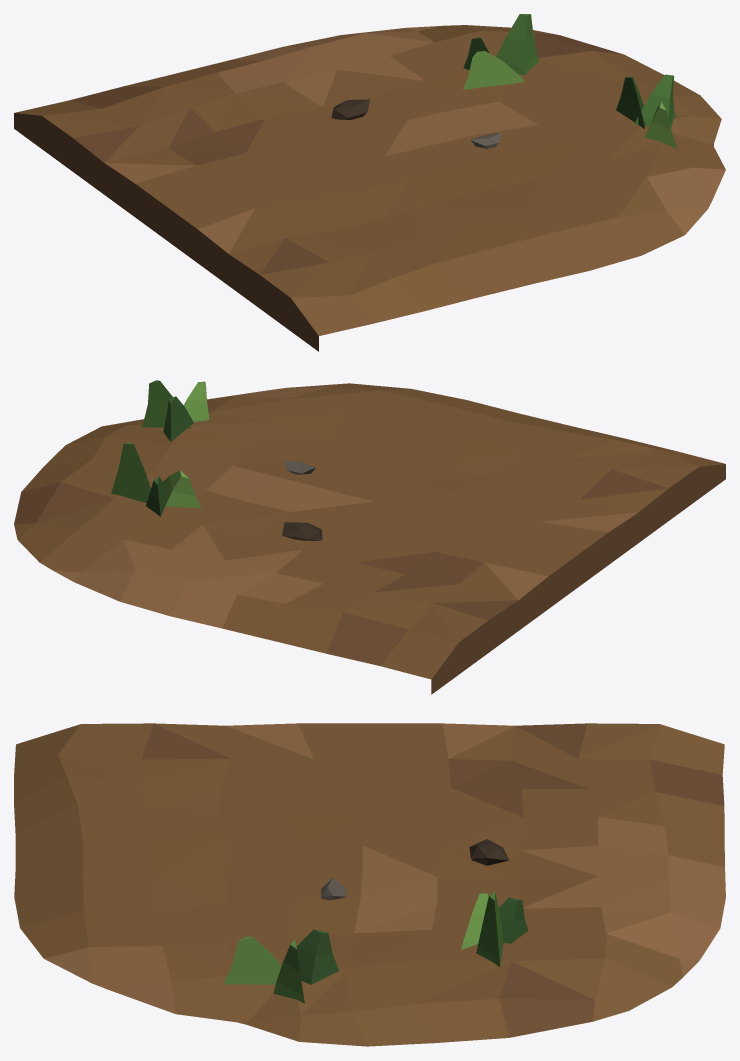
File: mdvl_nature_path_end_01.glb
The picture shows the model from 3 angles, top to bottom: view 1: azimuth 30°, elevation 25°; view 2: azimuth 150°, elevation 25°; view 3: azimuth 270°, elevation 25°; orthographic projection. The views are drawn at different scales.
Parts seen in each view (by area): view 1: mdvl_nature_path_end_01; view 2: mdvl_nature_path_end_01; view 3: mdvl_nature_path_end_01.
Part boxes in pixels (box(x1,y1,x2,y2)): mdvl_nature_path_end_01: box(14, 14, 725, 351); mdvl_nature_path_end_01: box(14, 380, 725, 694); mdvl_nature_path_end_01: box(14, 723, 725, 1046).
Size of the model in its own units: 0.9885 by 0.1555 by 0.9843.
Materials: 1 (1 with a texture image).
